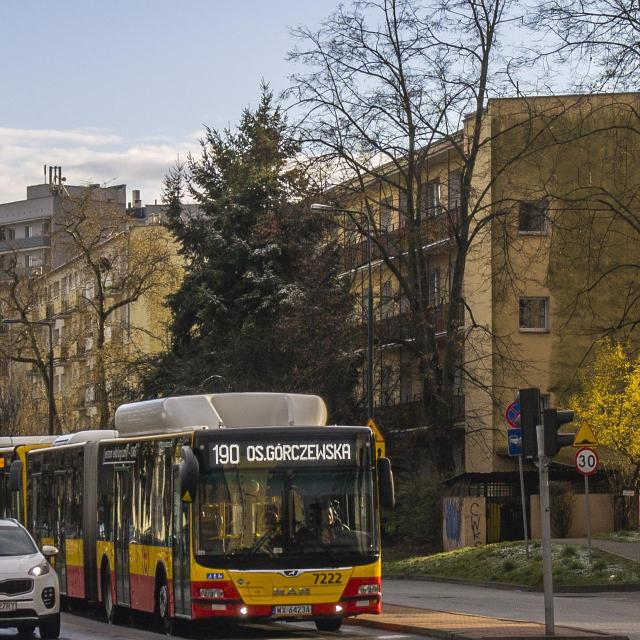Bus: (24, 393, 394, 632)
